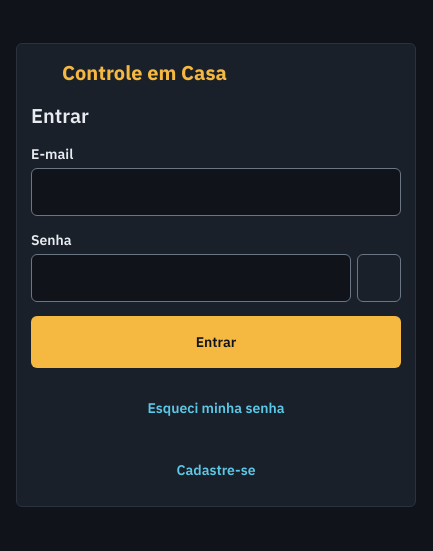
Scenario: T01 Entrar › credenciais erradas: alerta genérico, senha limpa e e-mail mantido
The image size is (433, 551).
In the field labelled "E-mail": (216, 192) [31, 168, 401, 216], type "leandro@exemplo.com"
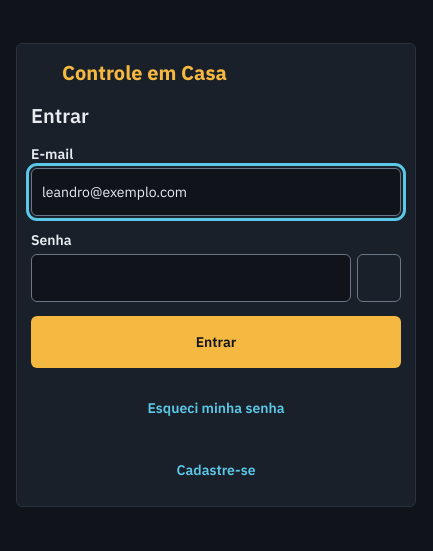
In the password field labelled "Senha": (191, 278) [31, 254, 351, 302], type "senha-errada-123"
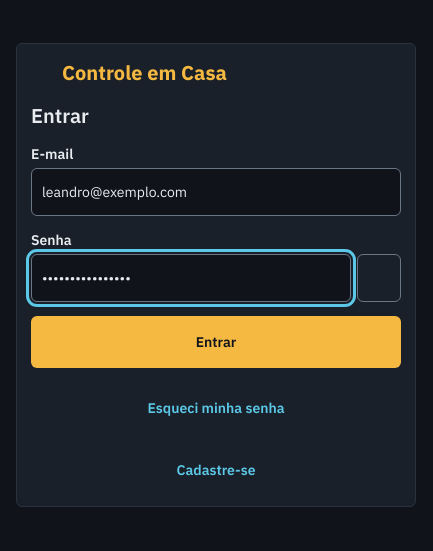
Click the button "Entrar": (216, 342) [31, 316, 401, 368]
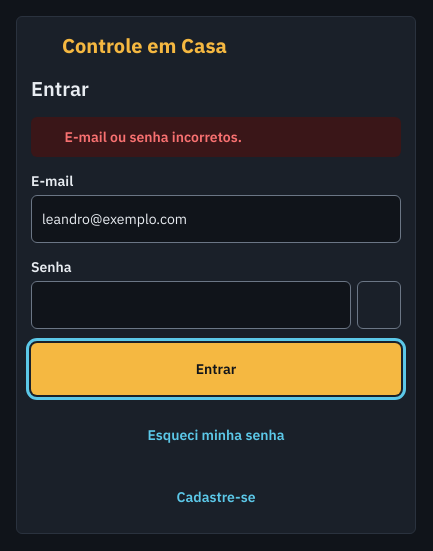
expect the message reads "E-mail ou senha incorretos.": met, box [64, 128, 242, 146]
expect the password field labelled "Senha" is empty: met, box [31, 281, 351, 329]
